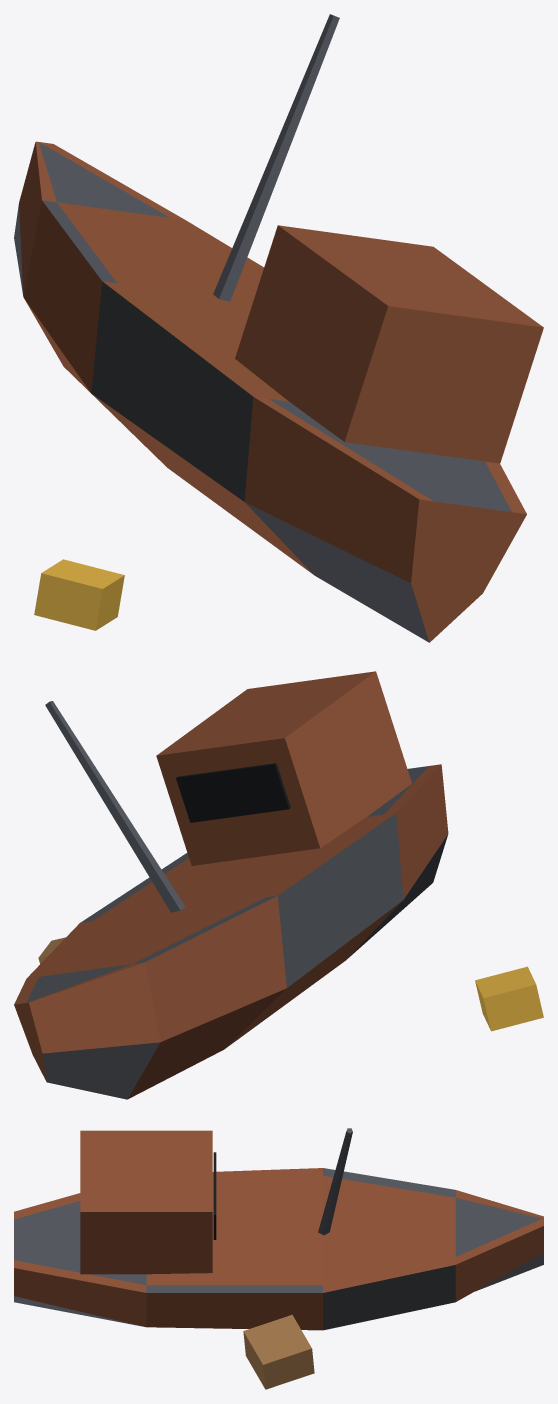
File: wreck.glb
3 renders of one model, top to bottom at view 1: azimuth 30°, elevation 25°; view 2: azimuth 150°, elevation 25°; view 3: azimuth 270°, elevation 25°, orthographic. The views are drawn at different scales.
Parts seen in each view (by area): view 1: wreck; view 2: wreck; view 3: wreck.
Part boxes in pixels (bbox=[...]): wreck: bbox=[14, 14, 543, 642]; wreck: bbox=[14, 671, 543, 1099]; wreck: bbox=[14, 1128, 543, 1389].
Bounding box in the file's own units: 8.15 × 6.14 × 12.
